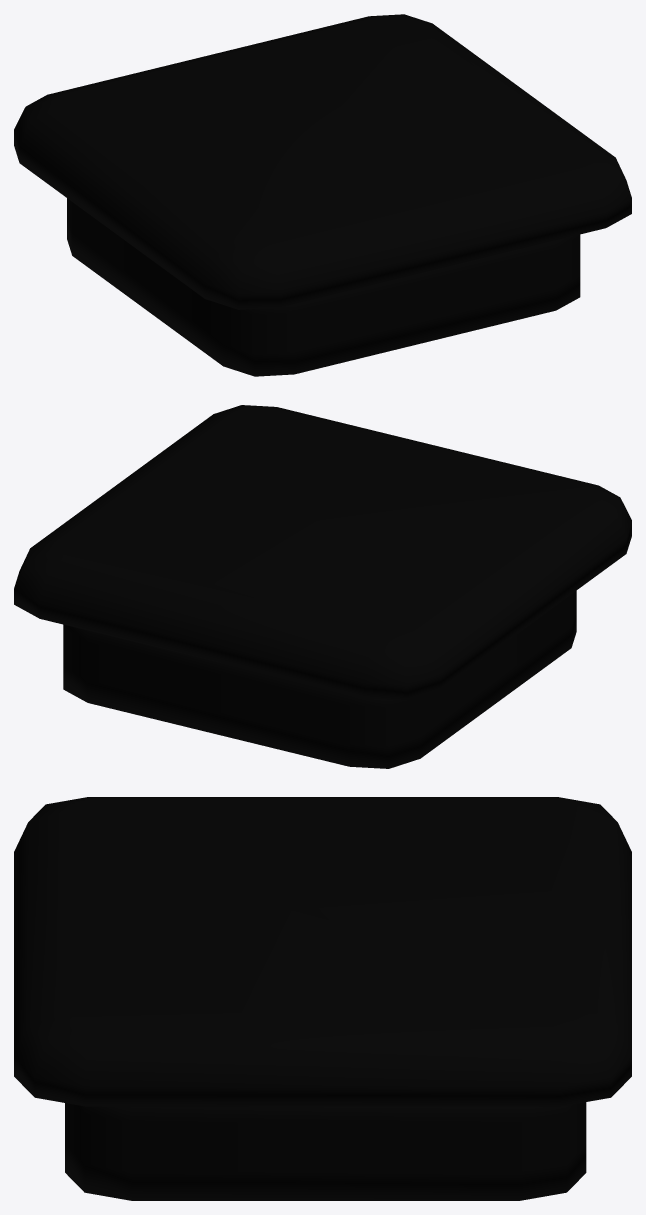
Rendered from Platform_3.fbx.
The picture shows the model from 3 angles, top to bottom: view 1: azimuth 30°, elevation 25°; view 2: azimuth 150°, elevation 25°; view 3: azimuth 270°, elevation 25°; orthographic projection. The views are drawn at different scales.
Parts seen in each view (by area): view 1: Platform_3; view 2: Platform_3; view 3: Platform_3.
Boxes of the visible parts, bbox=[...] form: Platform_3: bbox=[14, 14, 631, 376]; Platform_3: bbox=[14, 405, 631, 768]; Platform_3: bbox=[14, 797, 631, 1200].
Bounding box in the file's own units: 983 × 312 × 973.
